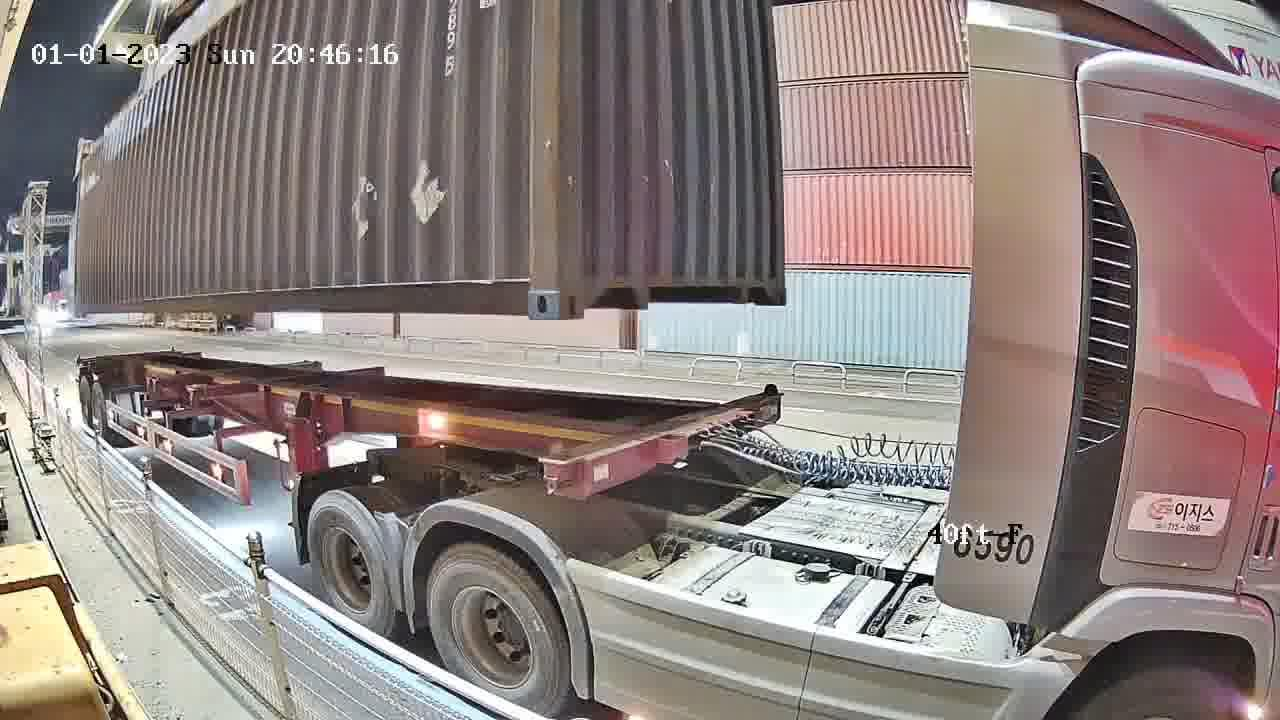Chassis: (542, 388, 781, 495)
Cone: (545, 445, 571, 498), (759, 382, 782, 419)
Hole_L: (558, 260, 608, 319)
Hole_R: (503, 260, 559, 319)
Tire: (424, 546, 563, 710), (306, 497, 392, 629)
